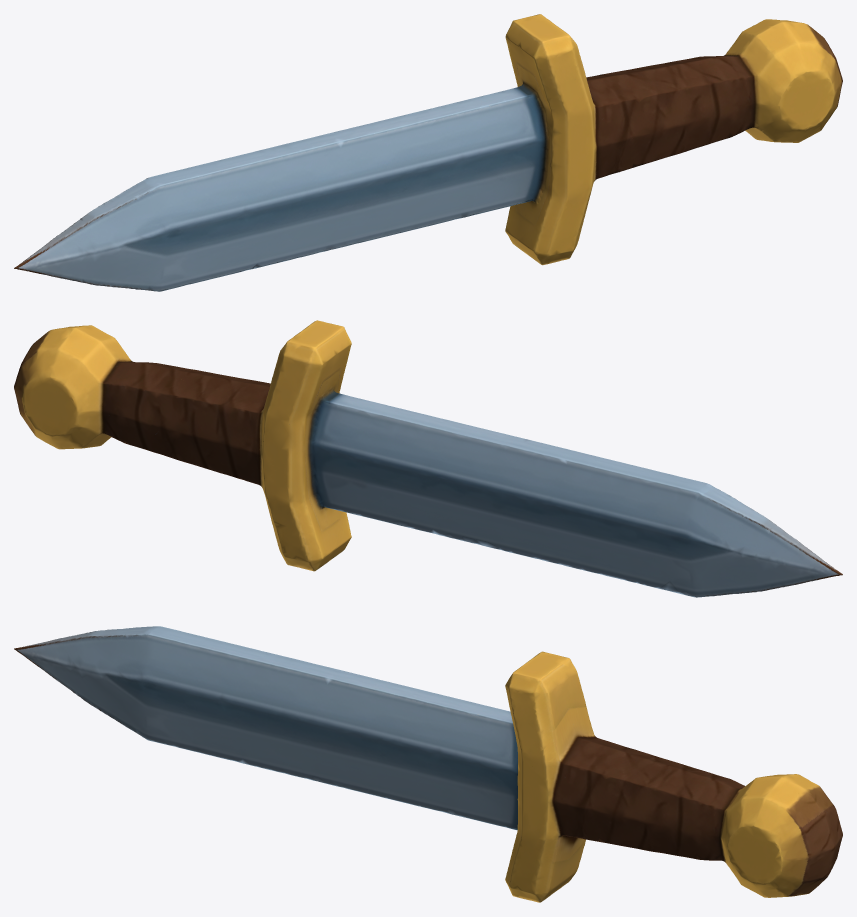
Rendered from Knife_simple_texture.glb.
3 renders of one model, top to bottom at view 1: azimuth 30°, elevation 25°; view 2: azimuth 150°, elevation 25°; view 3: azimuth 330°, elevation 25°, orthographic.
Bounding box in the file's own units: 1.9 × 0.4936 × 0.2105.
Materials: 1 (1 with a texture image).
